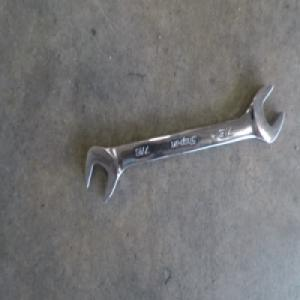Wrench: (86, 82, 283, 200)
